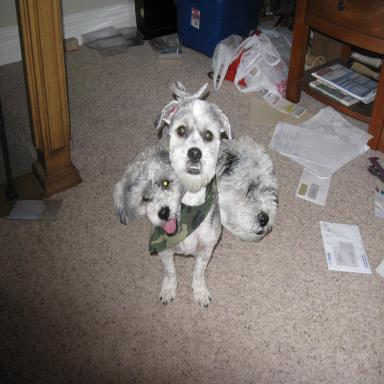plasticbag: (231, 45, 287, 94), (210, 34, 248, 92), (232, 30, 282, 65), (271, 28, 312, 64), (258, 22, 287, 42)
